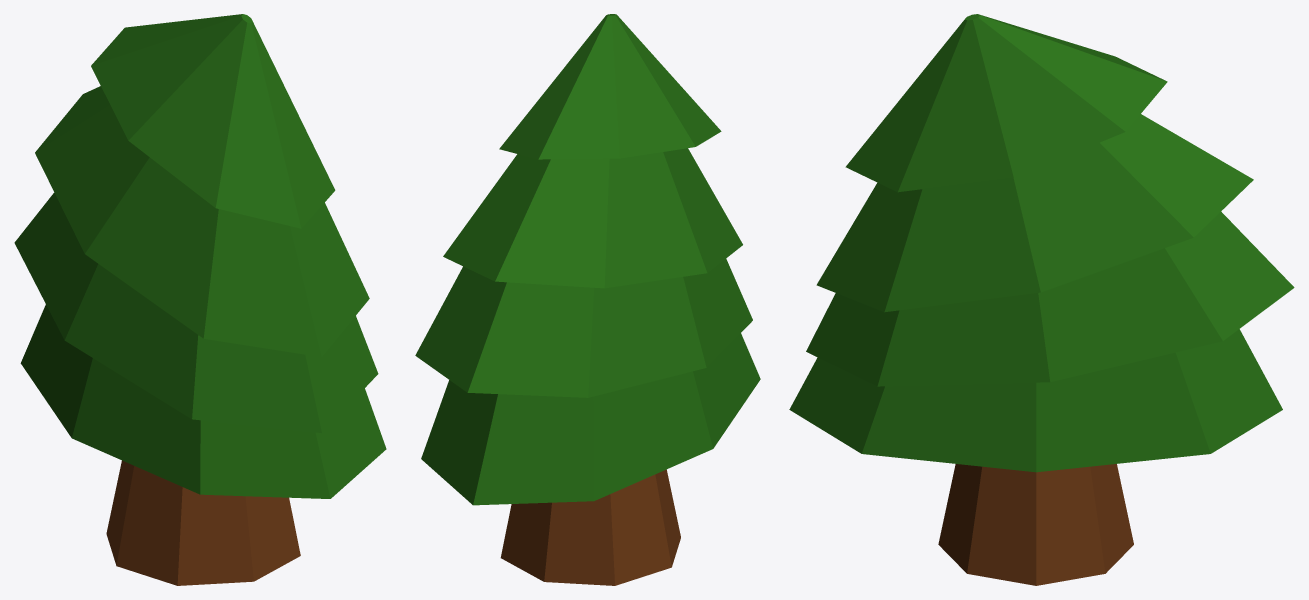
The model's file is Tree1Col.fbx.
3 views of the same model, side by side, from view 1: azimuth 30°, elevation 25°; view 2: azimuth 150°, elevation 25°; view 3: azimuth 270°, elevation 25° (orthographic). The views are drawn at different scales.
Parts seen in each view (by area): view 1: Cylinder.079; view 2: Cylinder.079; view 3: Cylinder.079.
Boxes of the visible parts, left/top/right/bottom form: Cylinder.079: left=14, top=14, right=386, bottom=585; Cylinder.079: left=415, top=14, right=760, bottom=585; Cylinder.079: left=789, top=14, right=1294, bottom=585.
Size of the model in its own units: 302 by 602 by 516.
